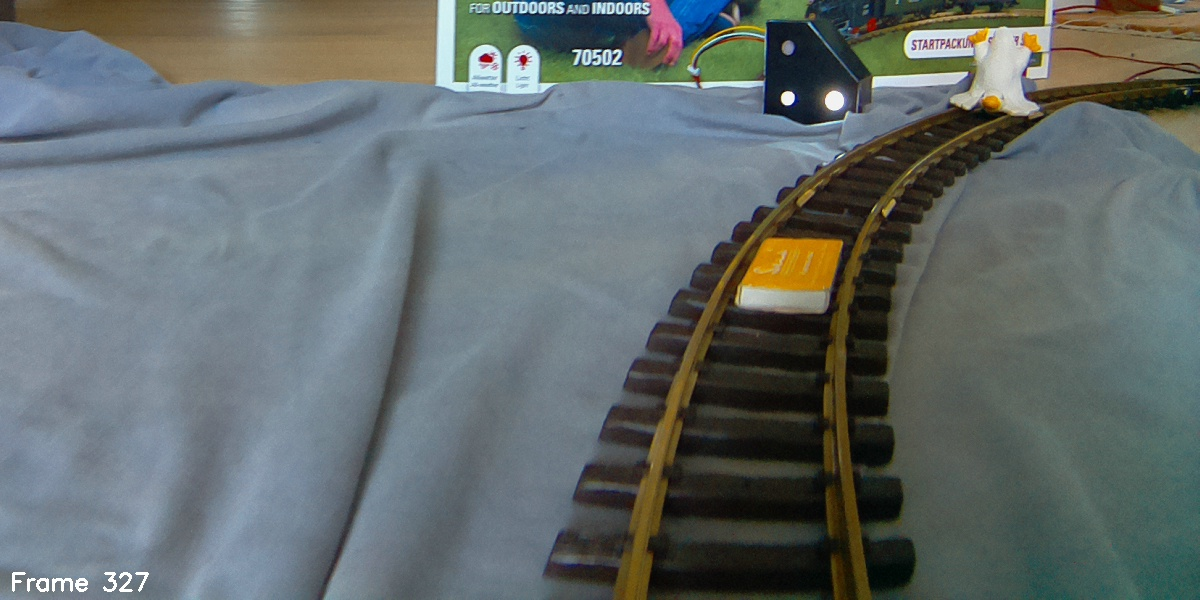Halt: (766, 21, 869, 122)
